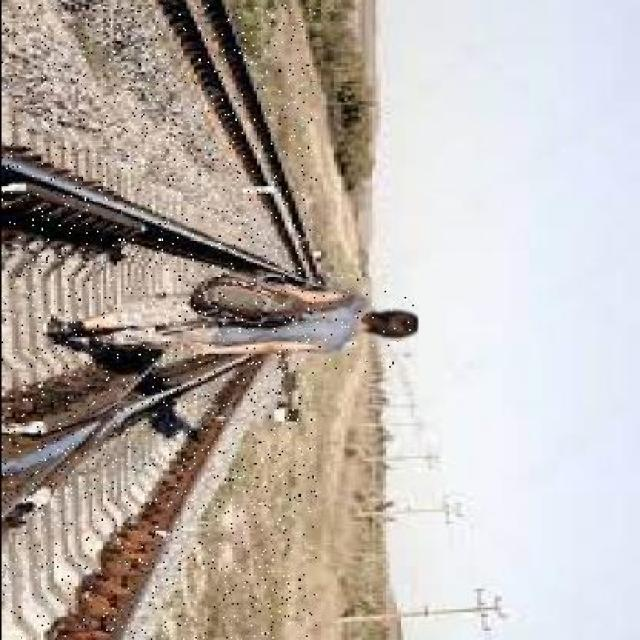danger: (44, 277, 416, 372)
rail: (0, 4, 315, 640)
